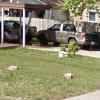Car: (37, 20, 97, 51)
